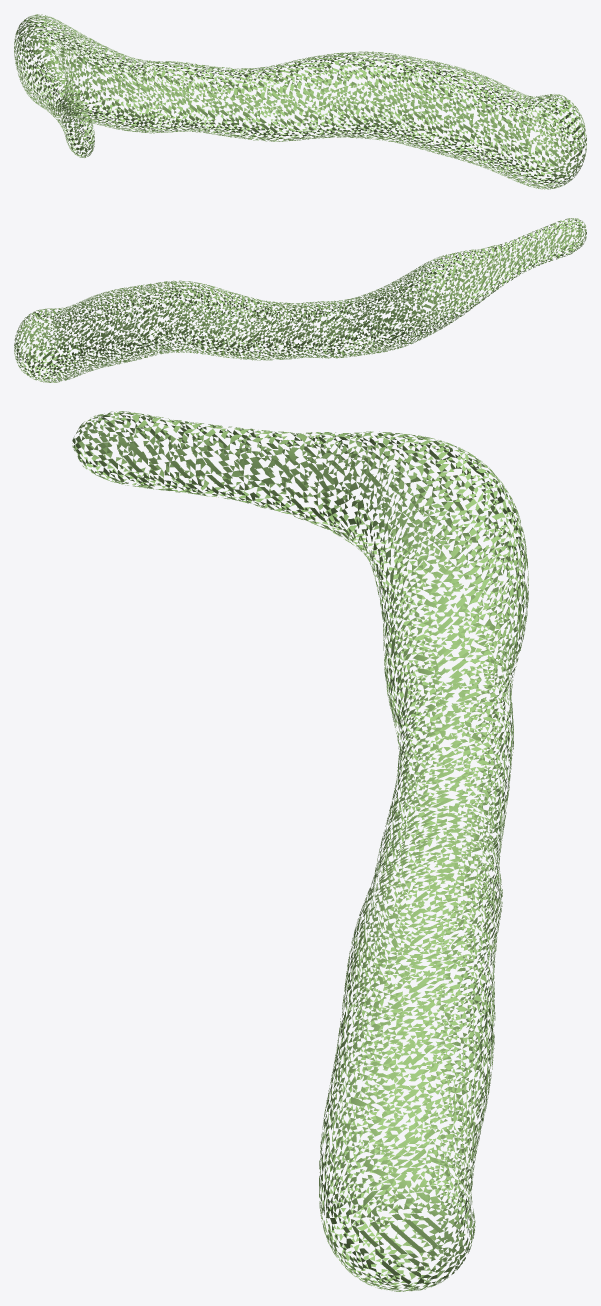
File: morph_013.glb
3 renders of one model, top to bottom at view 1: azimuth 30°, elevation 25°; view 2: azimuth 150°, elevation 25°; view 3: azimuth 270°, elevation 25°, orthographic. The views are drawn at different scales.
Bounding box in the file's own units: 124 × 55.08 × 50.4.
